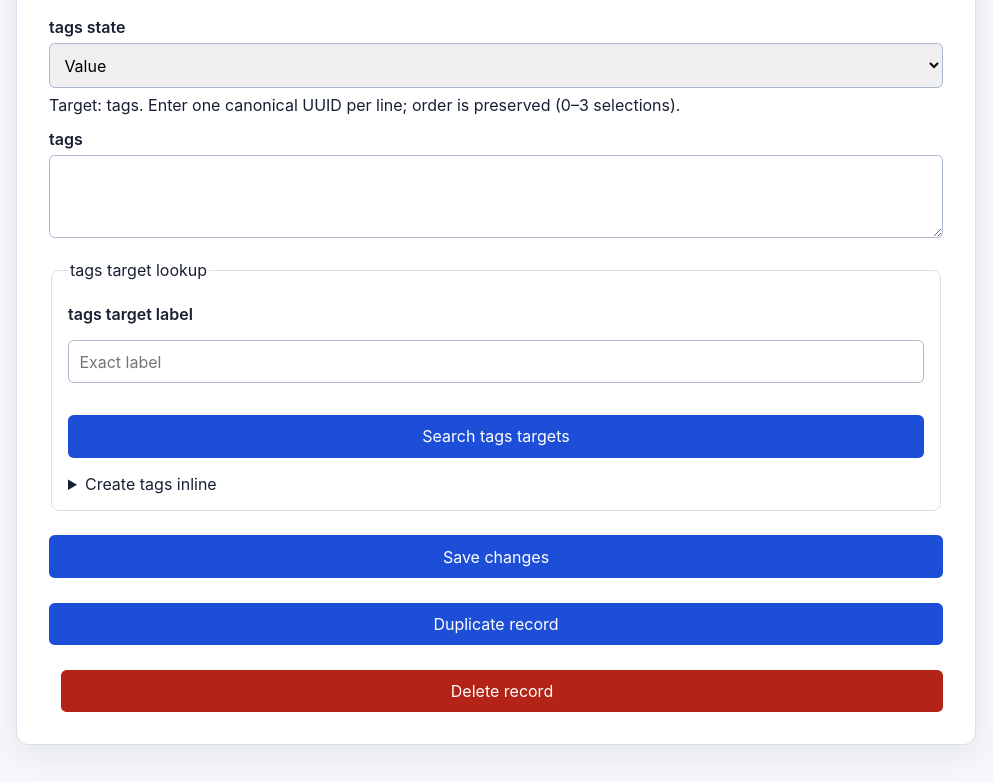
Test: record editor page › keeps the source record open when duplicate draft persistence fails
(page scrolled)
Click the button "Duplicate record" at (496, 624), box left=49, top=603, right=943, bottom=645
(page scrolled)
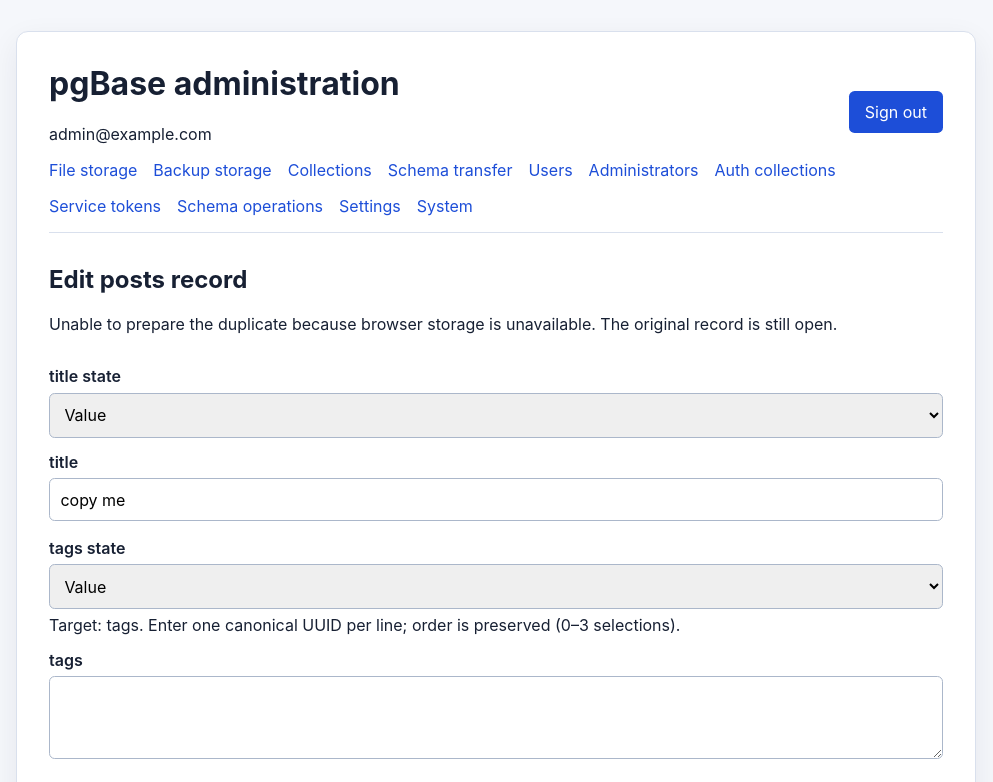
Expected: the heading "Edit posts record" is shown, left=49, top=265, right=247, bottom=294
Now the text "Unable to prepare the duplicate" is shown, box left=49, top=314, right=837, bottom=334
